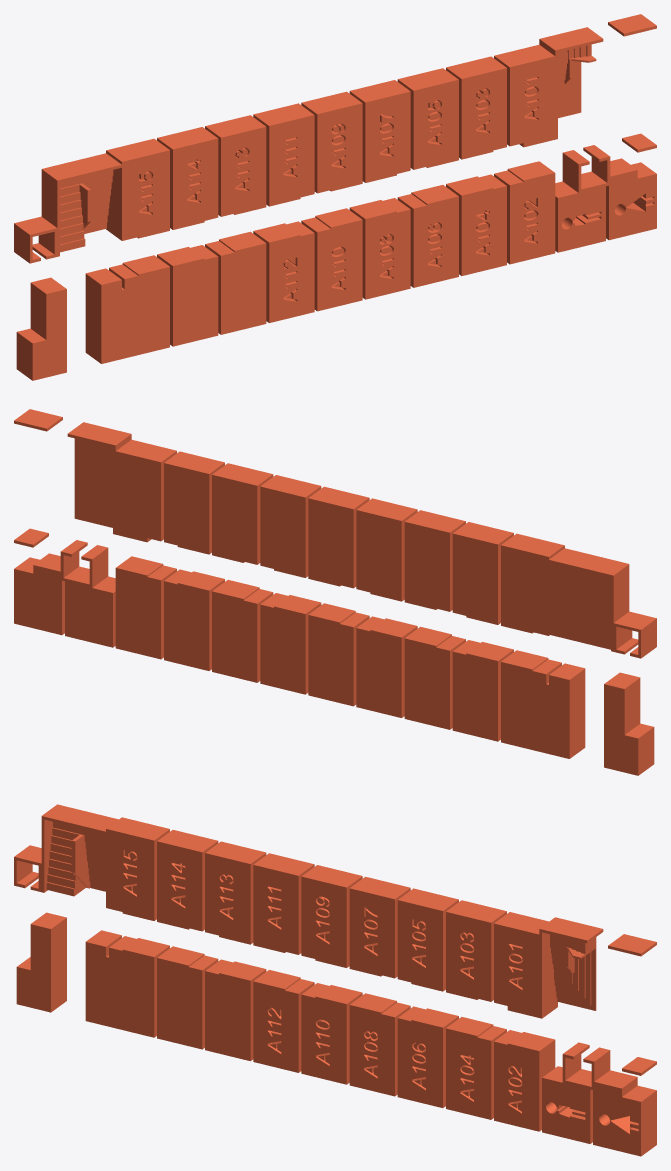
File: Edifico A - Piso 1.obj
3 views of the same model, one above another, from view 1: azimuth 30°, elevation 25°; view 2: azimuth 150°, elevation 25°; view 3: azimuth 330°, elevation 25° (orthographic).
Parts seen in each view (by area): view 1: Cuerpo15, Cuerpo2, Cuerpo22, Cuerpo1, Cuerpo21, Cuerpo16, Cuerpo7, Cuerpo4, Cuerpo17, Cuerpo5, Cuerpo19, Cuerpo18 (+15 smaller); view 2: Cuerpo15, Cuerpo2, Cuerpo22, Cuerpo1, Cuerpo21, Cuerpo16, Cuerpo7, Cuerpo4, Cuerpo17, Cuerpo5, Cuerpo19, Cuerpo18 (+15 smaller); view 3: Cuerpo15, Cuerpo23, Cuerpo1, Cuerpo3, Cuerpo10, Cuerpo13, Cuerpo5, Cuerpo18, Cuerpo19, Cuerpo16, Cuerpo7, Cuerpo21 (+15 smaller).
Boxes of the visible parts, box(x1,y1,x2,y2) form: Cuerpo15: box(41, 149, 124, 256); Cuerpo2: box(301, 208, 362, 311); Cuerpo22: box(397, 185, 458, 287); Cuerpo1: box(494, 161, 555, 264); Cuerpo21: box(205, 231, 266, 334); Cuerpo16: box(349, 80, 410, 182); Cuerpo7: box(253, 103, 314, 206); Cuerpo4: box(494, 44, 555, 146); Cuerpo17: box(157, 127, 218, 229); Cuerpo5: box(301, 91, 362, 193); Cuerpo19: box(397, 68, 458, 169); Cuerpo18: box(205, 115, 266, 216); Cuerpo15: box(546, 544, 629, 651); Cuerpo2: box(308, 603, 369, 706); Cuerpo22: box(212, 580, 273, 682); Cuerpo1: box(115, 556, 176, 659); Cuerpo21: box(404, 626, 465, 729); Cuerpo16: box(260, 475, 321, 577); Cuerpo7: box(356, 498, 417, 601); Cuerpo4: box(115, 439, 176, 541); Cuerpo17: box(452, 522, 513, 624); Cuerpo5: box(308, 486, 369, 588); Cuerpo19: box(212, 463, 273, 564); Cuerpo18: box(404, 510, 465, 611); Cuerpo15: box(41, 804, 123, 908); Cuerpo23: box(507, 917, 603, 1018); Cuerpo1: box(494, 1030, 555, 1131); Cuerpo3: box(107, 936, 169, 1037); Cuerpo10: box(253, 970, 314, 1072); Cuerpo13: box(349, 993, 410, 1096); Cuerpo5: box(301, 865, 362, 967); Cuerpo18: box(205, 841, 266, 944); Cuerpo19: box(397, 888, 458, 991); Cuerpo16: box(349, 876, 410, 978); Cuerpo7: box(253, 853, 314, 954); Cuerpo21: box(205, 959, 266, 1061).
Size of the model in its own units: 45.6 by 14.1 by 2.
